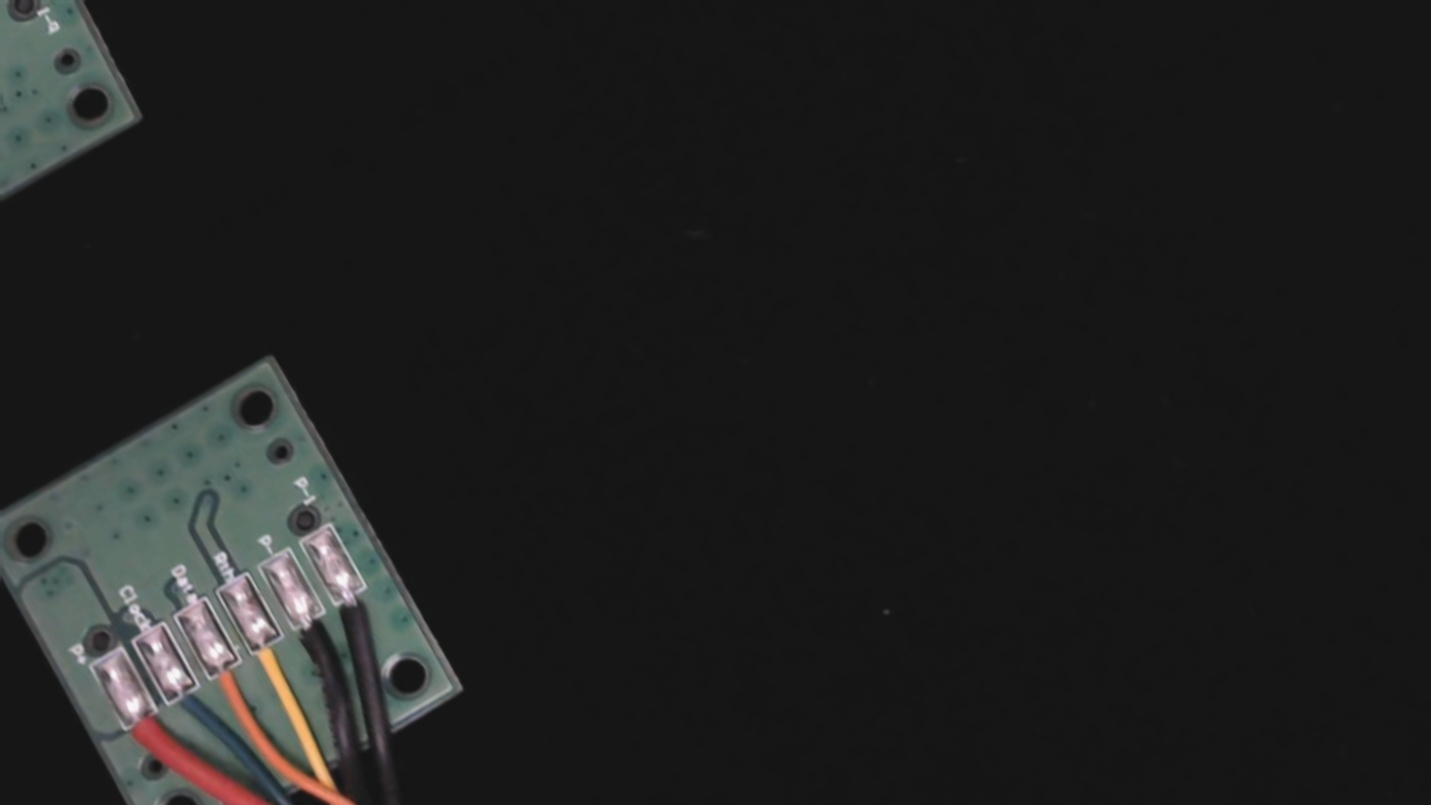Black: (277, 596, 354, 681)
Black1: (320, 570, 401, 660)
Green: (147, 665, 232, 760)
Orange: (191, 643, 274, 738)
Red: (107, 688, 192, 782)
Yellow: (232, 616, 320, 715)
